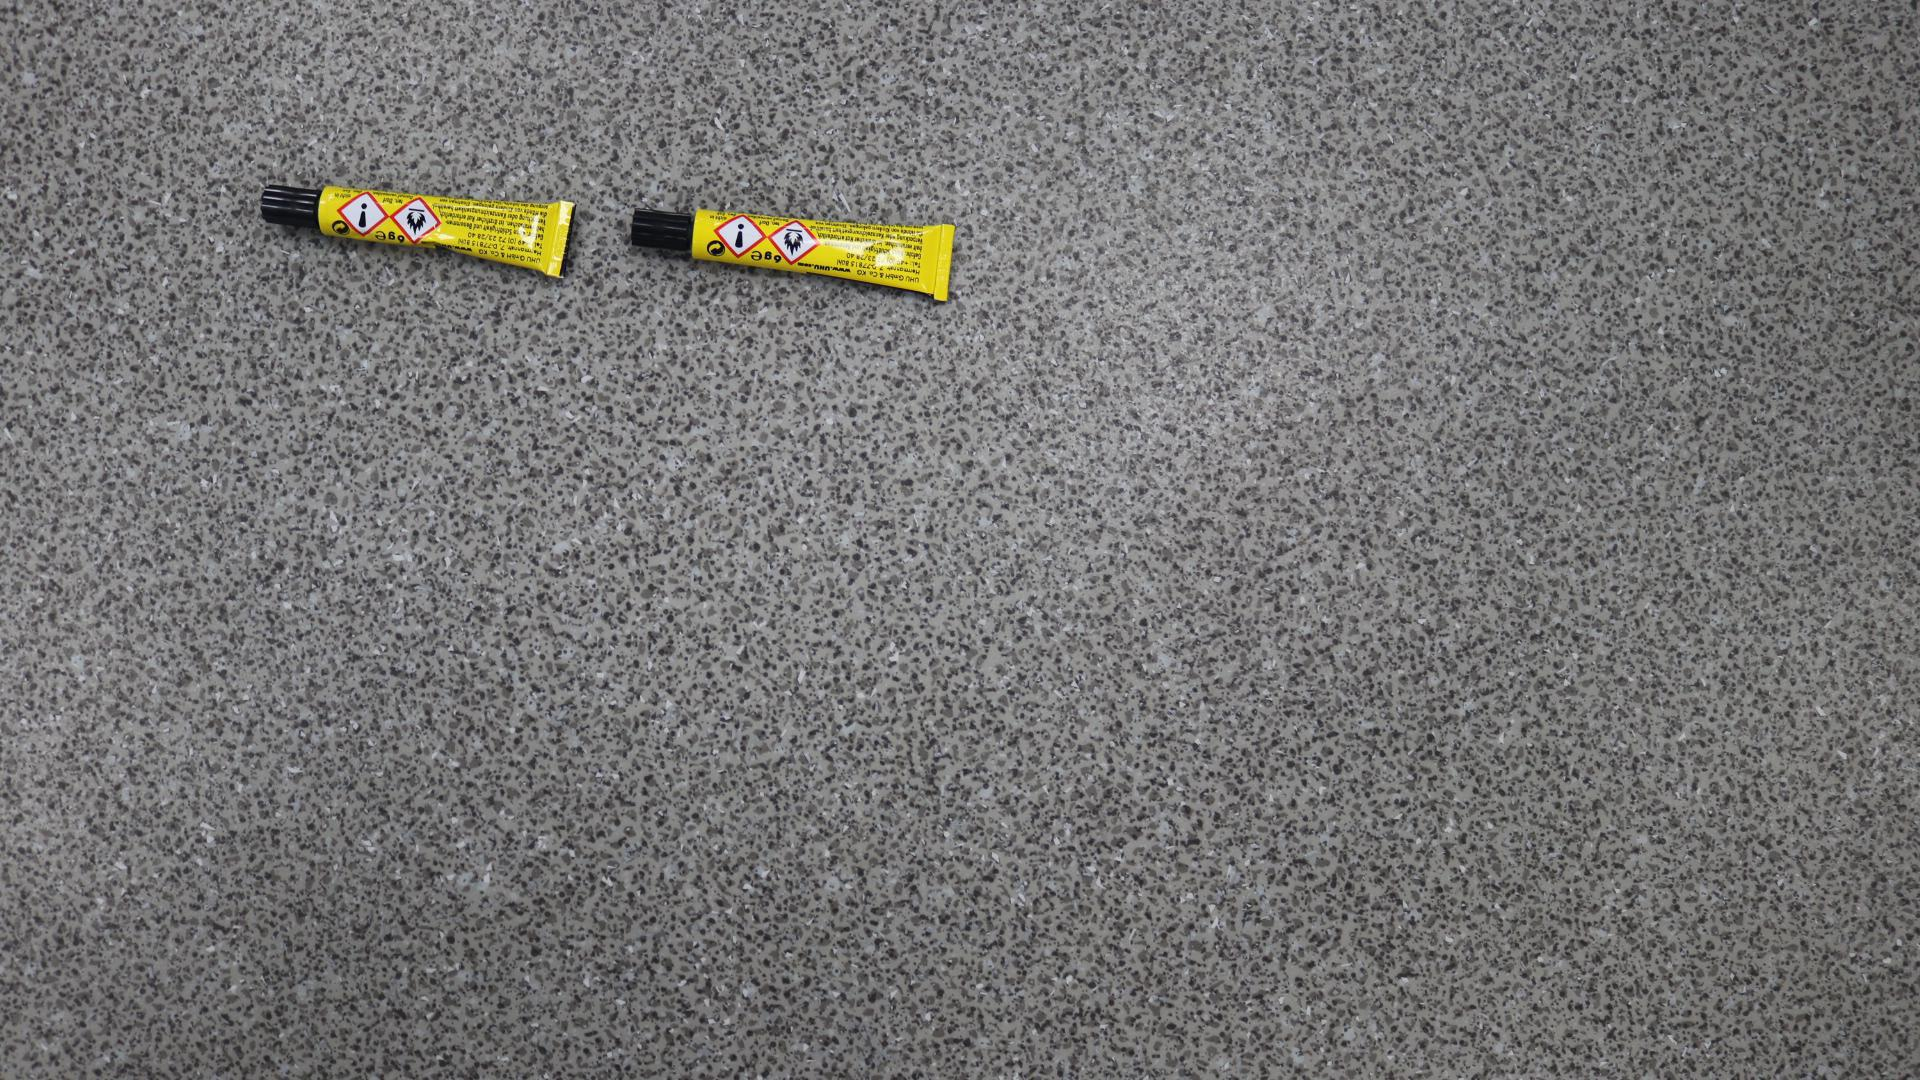Head: (655, 224, 662, 230), (284, 201, 289, 205)
Tail: (942, 259, 948, 266), (558, 236, 563, 241)
Tube: (631, 208, 955, 302), (260, 184, 577, 280)
